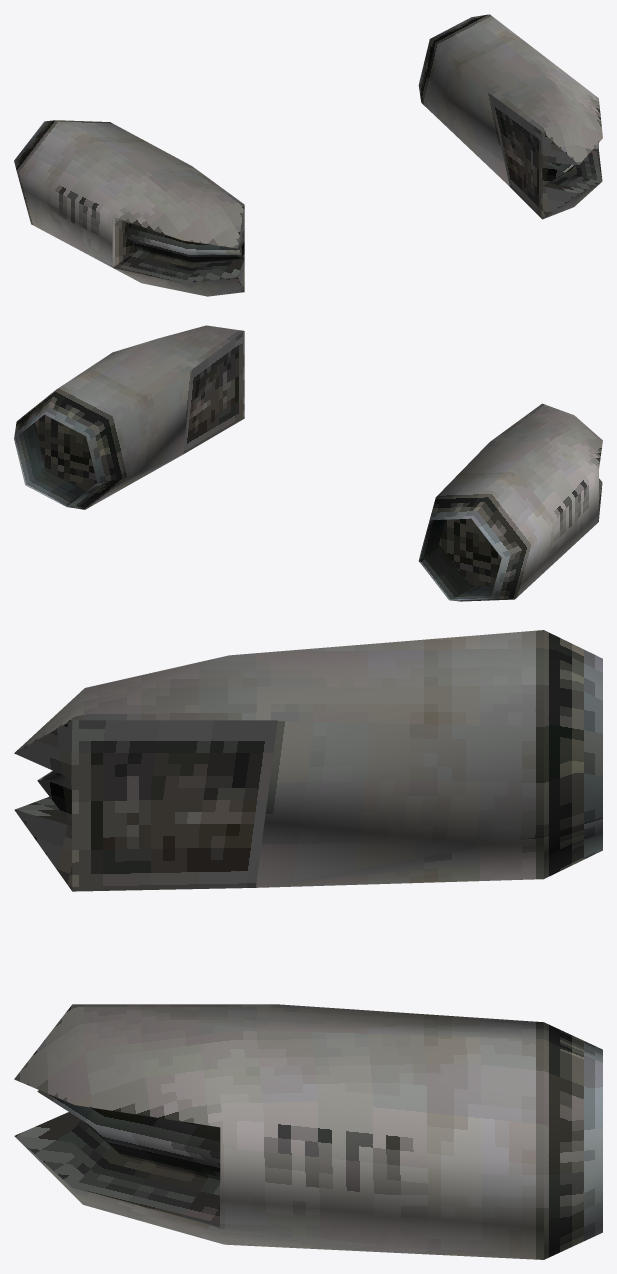
The model's file is hutt_fighter_heavy_booster_s02_l2.fbx.
3 renders of one model, top to bottom at view 1: azimuth 30°, elevation 25°; view 2: azimuth 150°, elevation 25°; view 3: azimuth 270°, elevation 25°, orthographic. The views are drawn at different scales.
Visible parts, largest first — view 1: mesh_node; view 2: mesh_node; view 3: mesh_node.
Part boxes in pixels (x1=…): mesh_node: x1=14, y1=14, x2=602, y2=296; mesh_node: x1=14, y1=325, x2=602, y2=601; mesh_node: x1=14, y1=630, x2=602, y2=1259.
Size of the model in its own units: 9.34 by 1.97 by 4.75.
